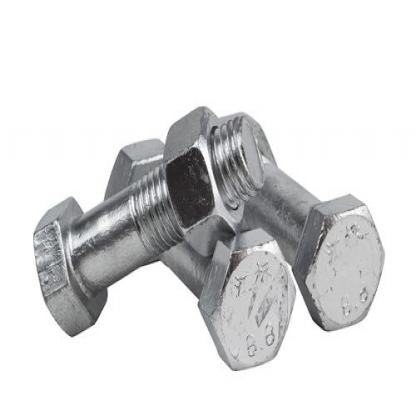FOD: (31, 103, 264, 340), (160, 104, 244, 260)
